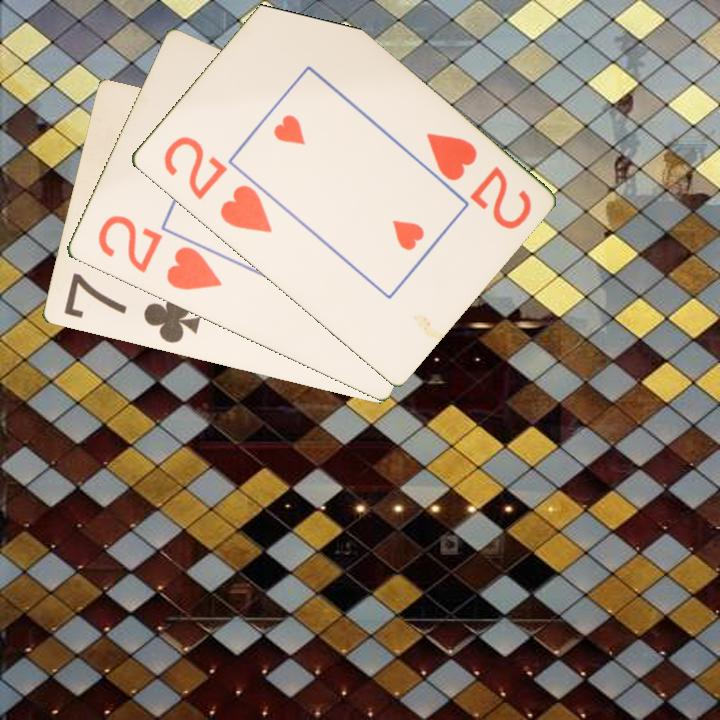2h: (159, 132, 275, 237), (422, 129, 534, 233), (93, 211, 225, 294)
7c: (60, 269, 203, 347)
